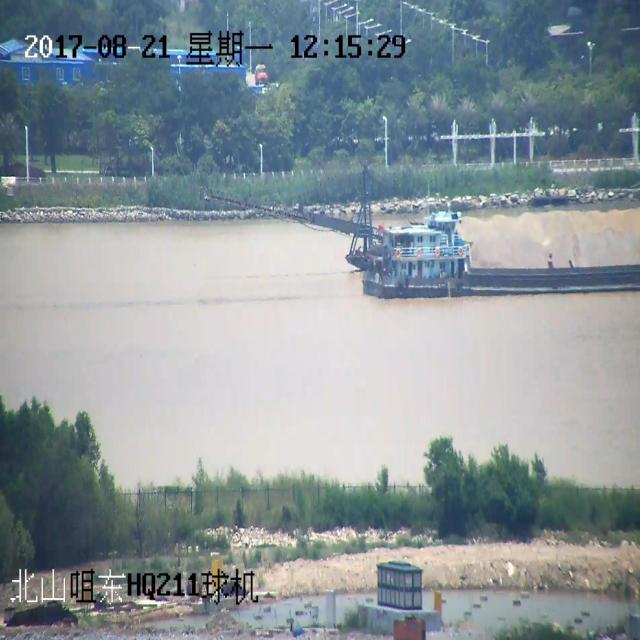cargoship: (328, 190, 638, 322)
